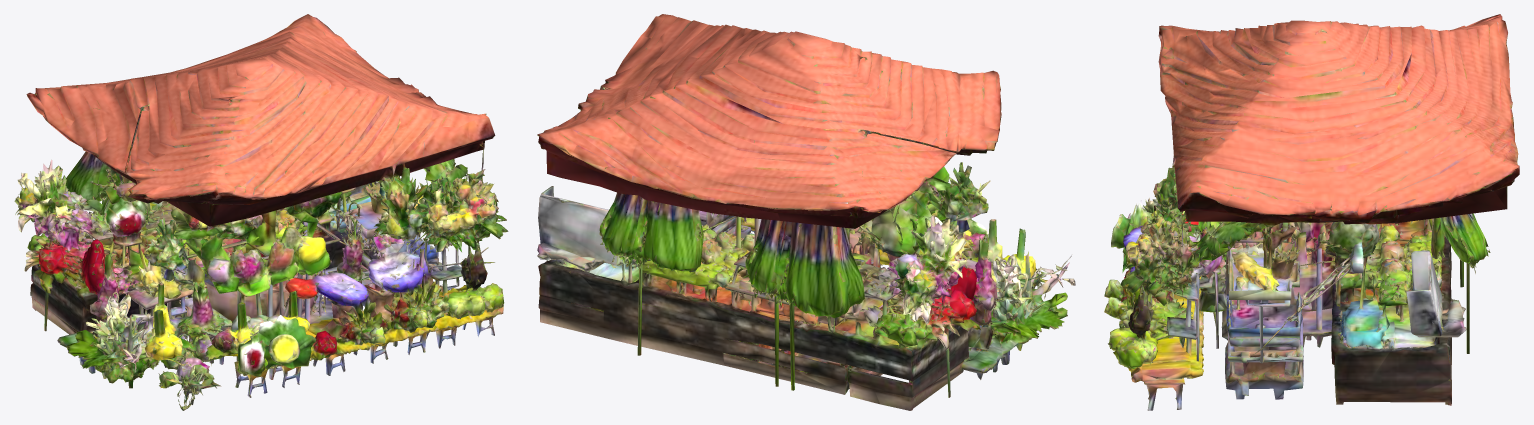
File: quanhoa.glb
3 views of the same model, side by side, from view 1: azimuth 30°, elevation 25°; view 2: azimuth 150°, elevation 25°; view 3: azimuth 270°, elevation 25° (orthographic). The views are drawn at different scales.
Visible parts, largest first — view 1: Mesh_0; view 2: Mesh_0; view 3: Mesh_0.
Part boxes in pixels (x1,y1,x2,y2): Mesh_0: (14,14,508,410); Mesh_0: (537,14,1075,410); Mesh_0: (1104,14,1519,410).
Bounding box in the file's own units: 1.91 × 1.23 × 1.57.
Materials: 1 (1 with a texture image).
